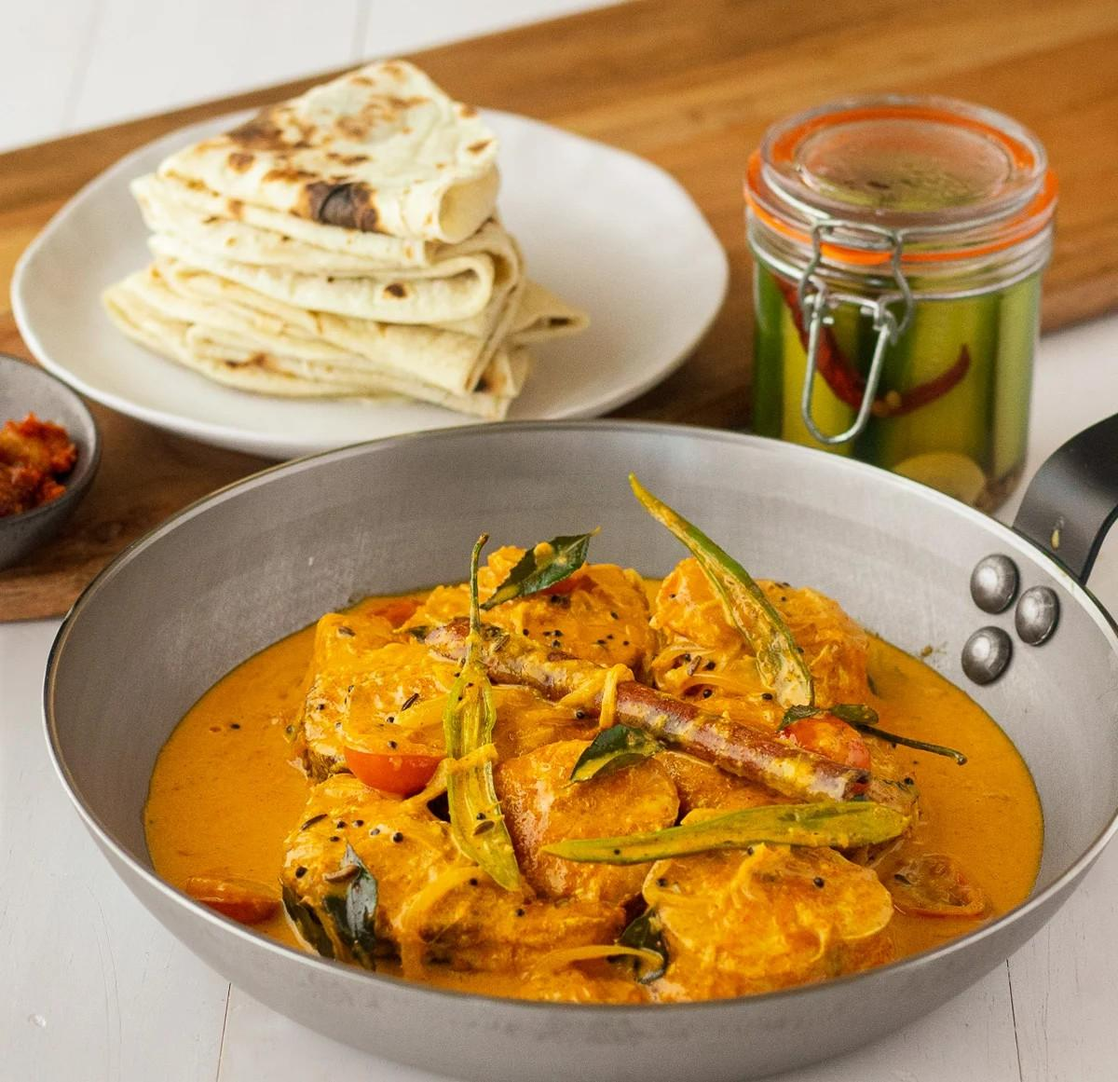FishCurry: (141, 475, 1047, 998)
